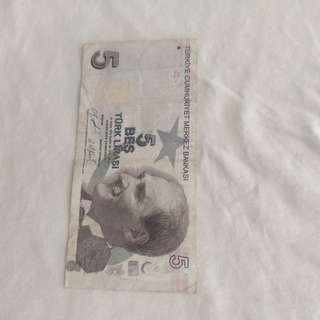5TLFront: (63, 37, 200, 296)
